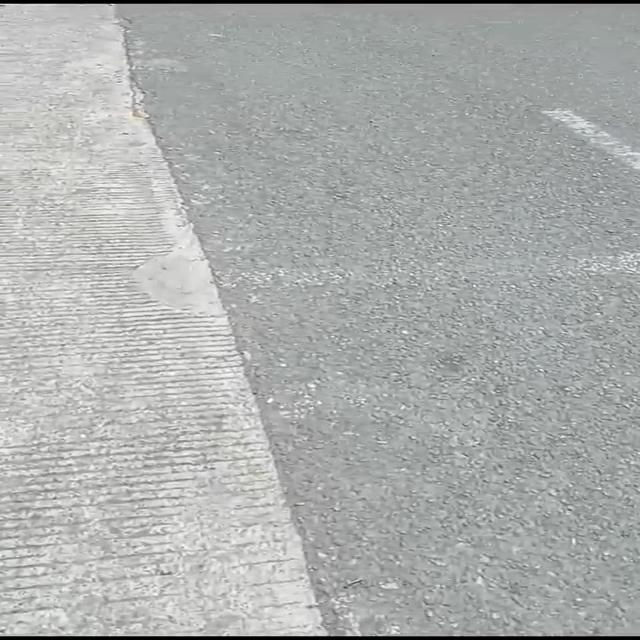Sambungan: (0, 0, 334, 640)
